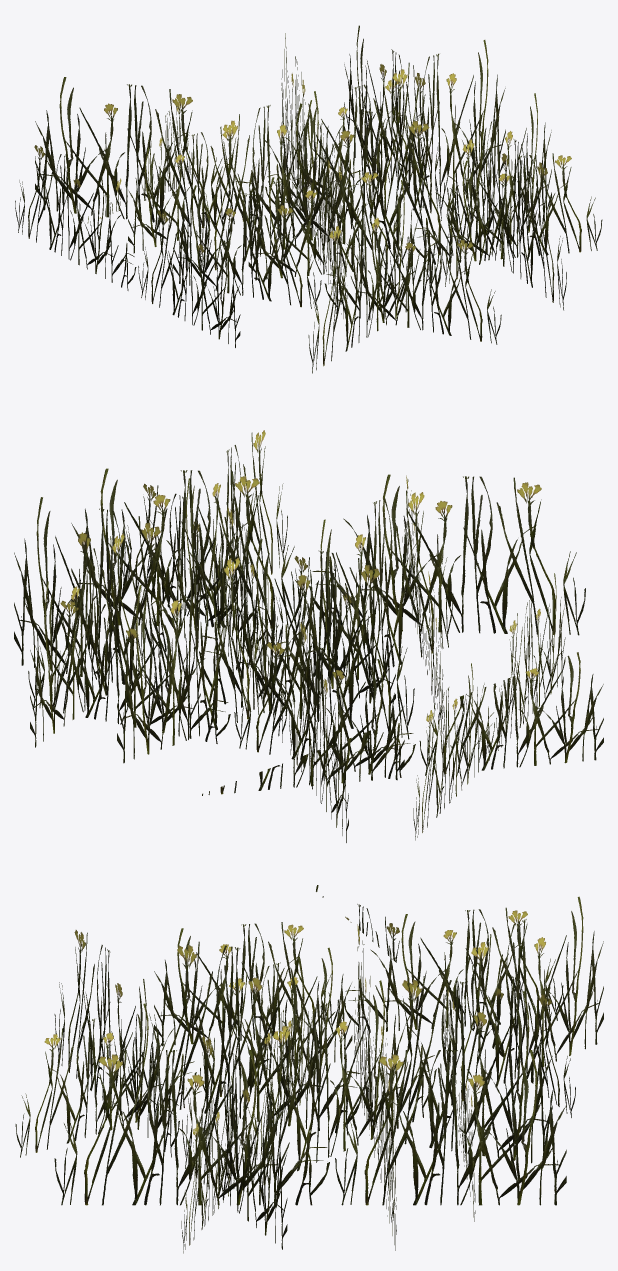
The model's file is KM_VOB_GRASS_04.glb.
3 views of the same model, one above another, from view 1: azimuth 30°, elevation 25°; view 2: azimuth 150°, elevation 25°; view 3: azimuth 270°, elevation 25° (orthographic). The views are drawn at different scales.
Visible parts, largest first — view 1: Mesh; view 2: Mesh; view 3: Mesh.
Part boxes in pixels (x1=…): Mesh: x1=15, y1=25, x2=602, y2=373; Mesh: x1=14, y1=430, x2=603, y2=842; Mesh: x1=15, y1=885, x2=603, y2=1253.
Size of the model in its own units: 7.29 by 2.2 by 6.88.
Materials: 1 (1 with a texture image).
